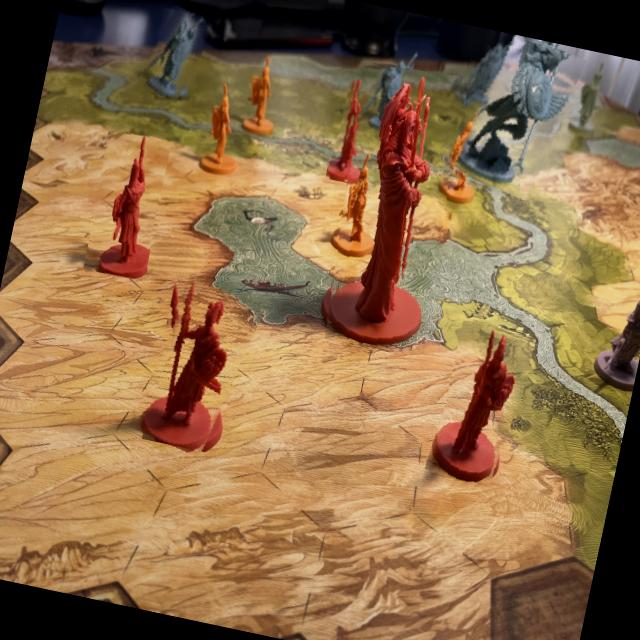amon: (310, 58, 477, 358)
amon_follower: (133, 274, 259, 460), (426, 318, 533, 490), (80, 128, 172, 282), (327, 78, 392, 188)
isis: (446, 27, 581, 200)
isis_follower: (140, 4, 212, 105), (454, 41, 504, 117)
